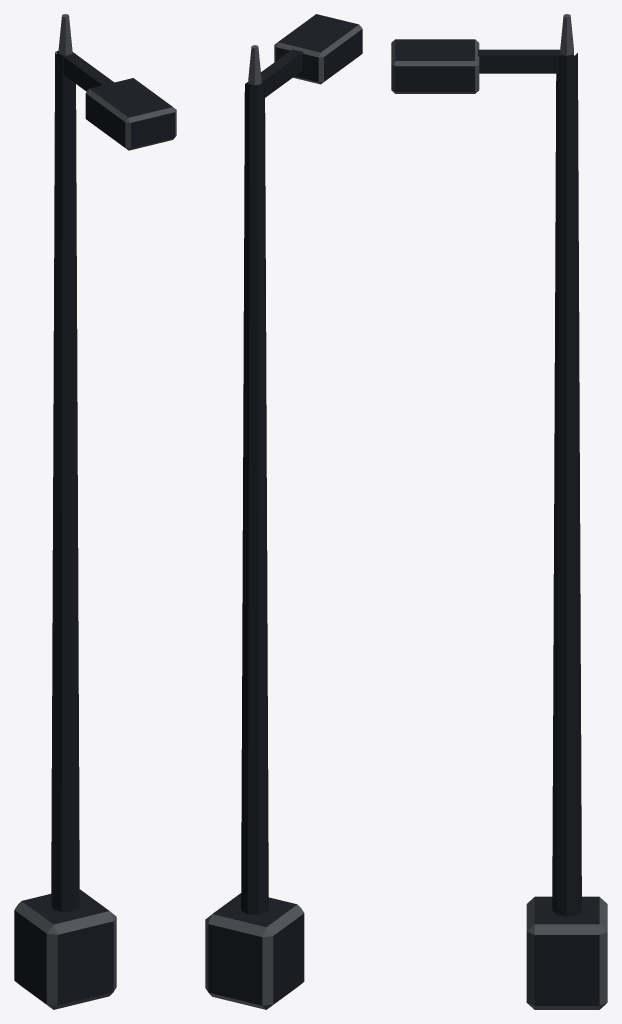
The model's file is lamp.glb.
3 views of the same model, side by side, from view 1: azimuth 30°, elevation 25°; view 2: azimuth 150°, elevation 25°; view 3: azimuth 270°, elevation 25° (orthographic). The views are drawn at different scales.
Parts seen in each view (by area): view 1: lamp; view 2: lamp; view 3: lamp.
Boxes of the visible parts, x1,y1,x2,y2 form: lamp: (14, 14, 176, 1009); lamp: (205, 14, 362, 1009); lamp: (391, 14, 607, 1009).
Size of the model in its own units: 0.6 by 8 by 1.6.
1 material, 1 textured.
